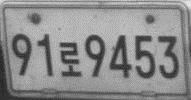1: (36, 33, 54, 77)
3: (156, 34, 179, 79)
4: (108, 33, 132, 80)
5: (133, 34, 156, 79)
9: (84, 34, 106, 77), (11, 33, 32, 77)
로: (58, 40, 82, 78)
